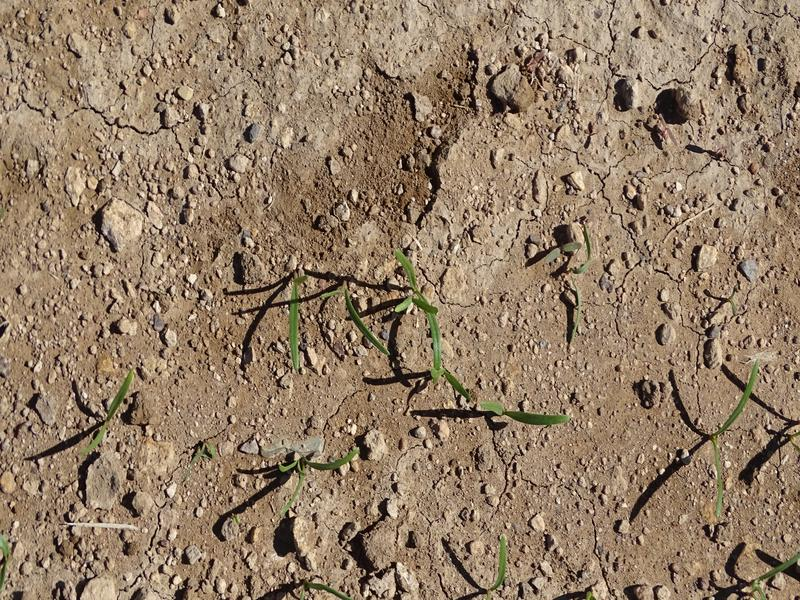Espinaca: (691, 359, 766, 520), (389, 249, 448, 375), (255, 444, 361, 509), (321, 278, 393, 359), (266, 268, 311, 376), (84, 368, 138, 456), (471, 395, 569, 437)
